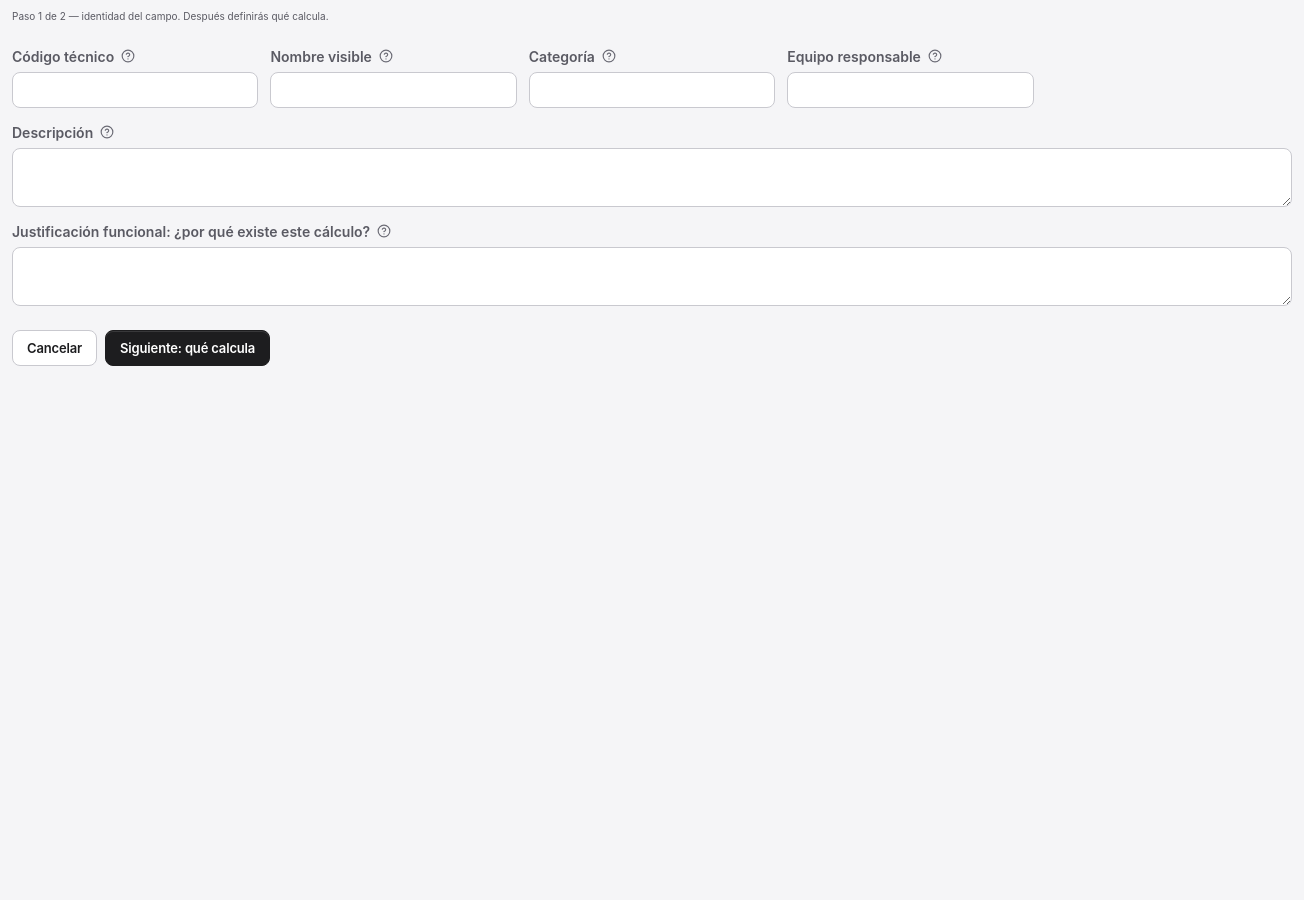
alta de campo calculado › el primer paso pide identidad y el segundo la implementación
Expected: the text "Modalidad de implementación" is not shown
Type "ingreso_disponible" into the field labelled "Código técnico" at coordinates (135, 90), box [12,72,258,108]
Type "Ingreso disponible" into the field labelled "Nombre visible" at coordinates (394, 90), box [270,72,517,108]
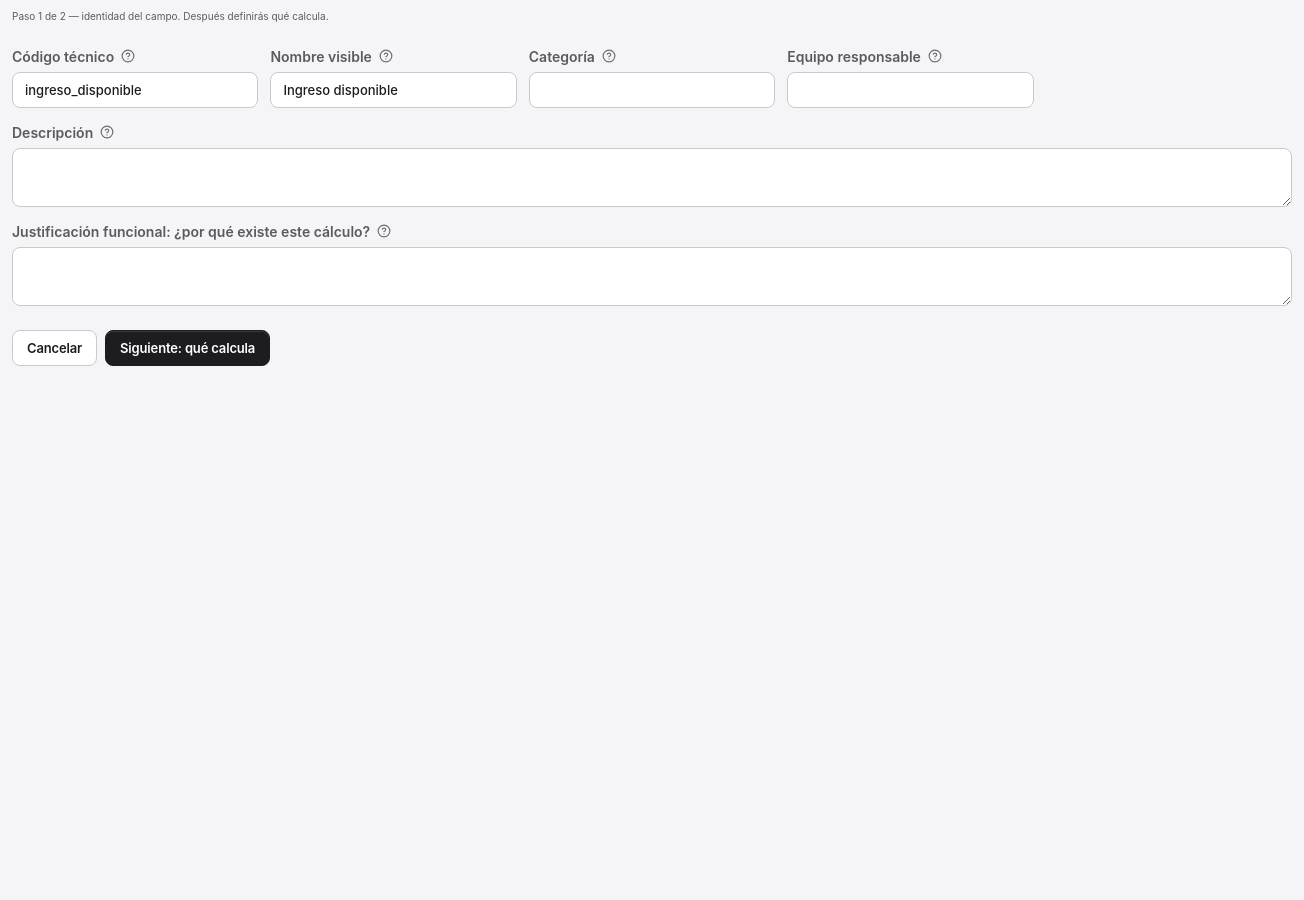
Type "AFORDABILIDAD" into the field labelled "Categoría" at coordinates (652, 90), box [529,72,775,108]
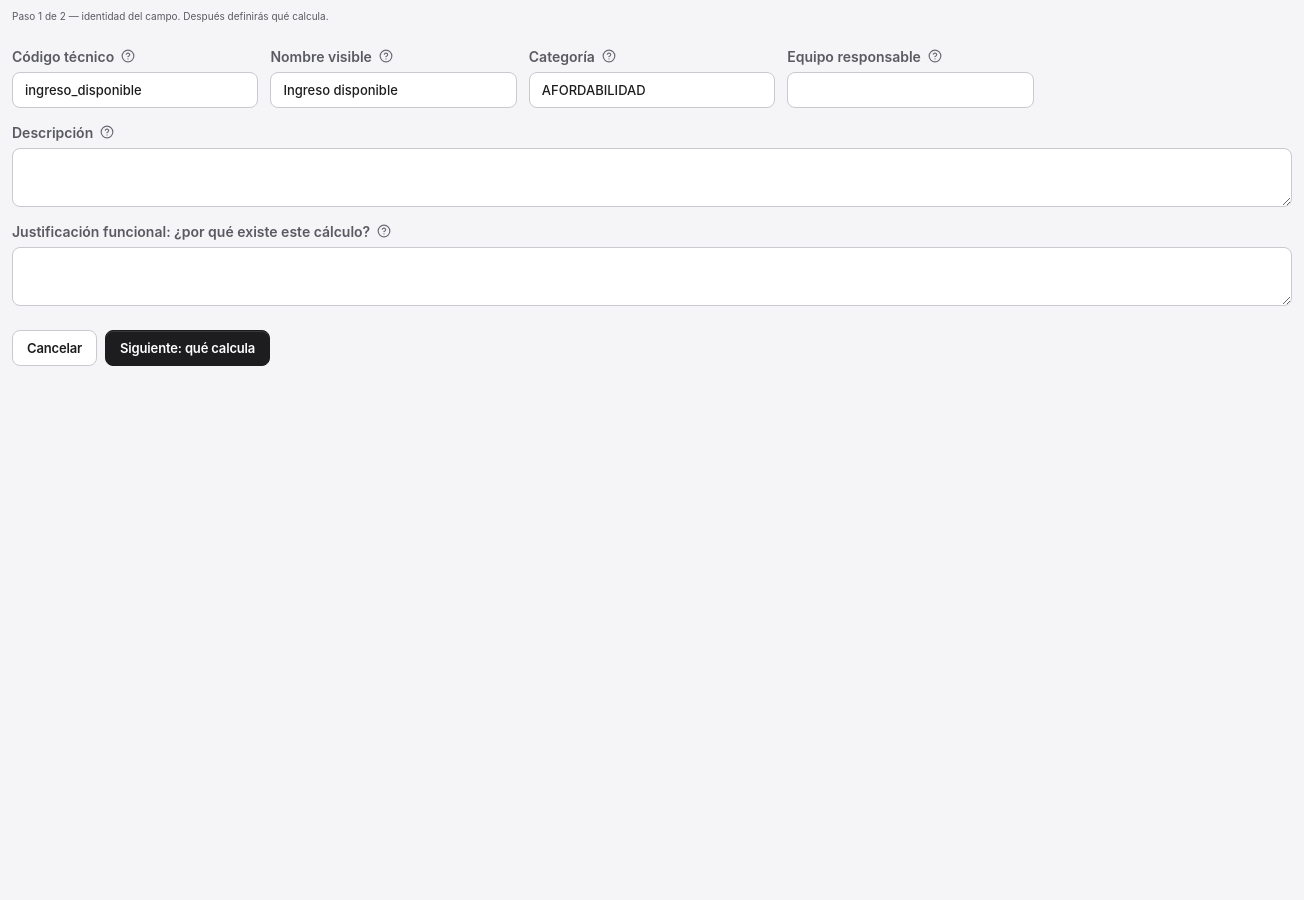
Type "RIESGOS" into the field labelled "Equipo responsable" at coordinates (910, 90), box [787,72,1034,108]
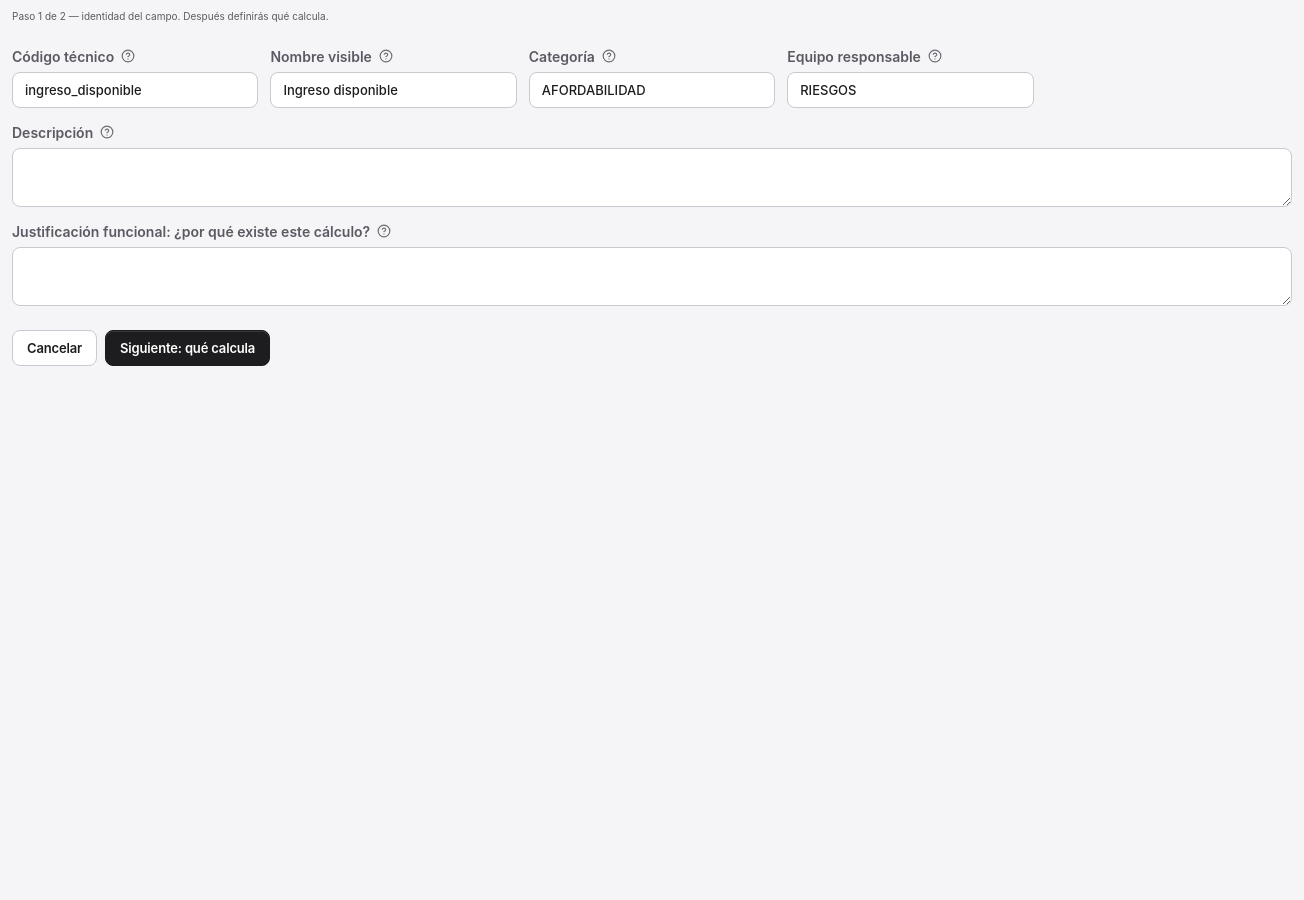
Type "Ingreso menos gastos" into the text box labelled "Descripción" at coordinates (652, 178), box [12,148,1292,207]
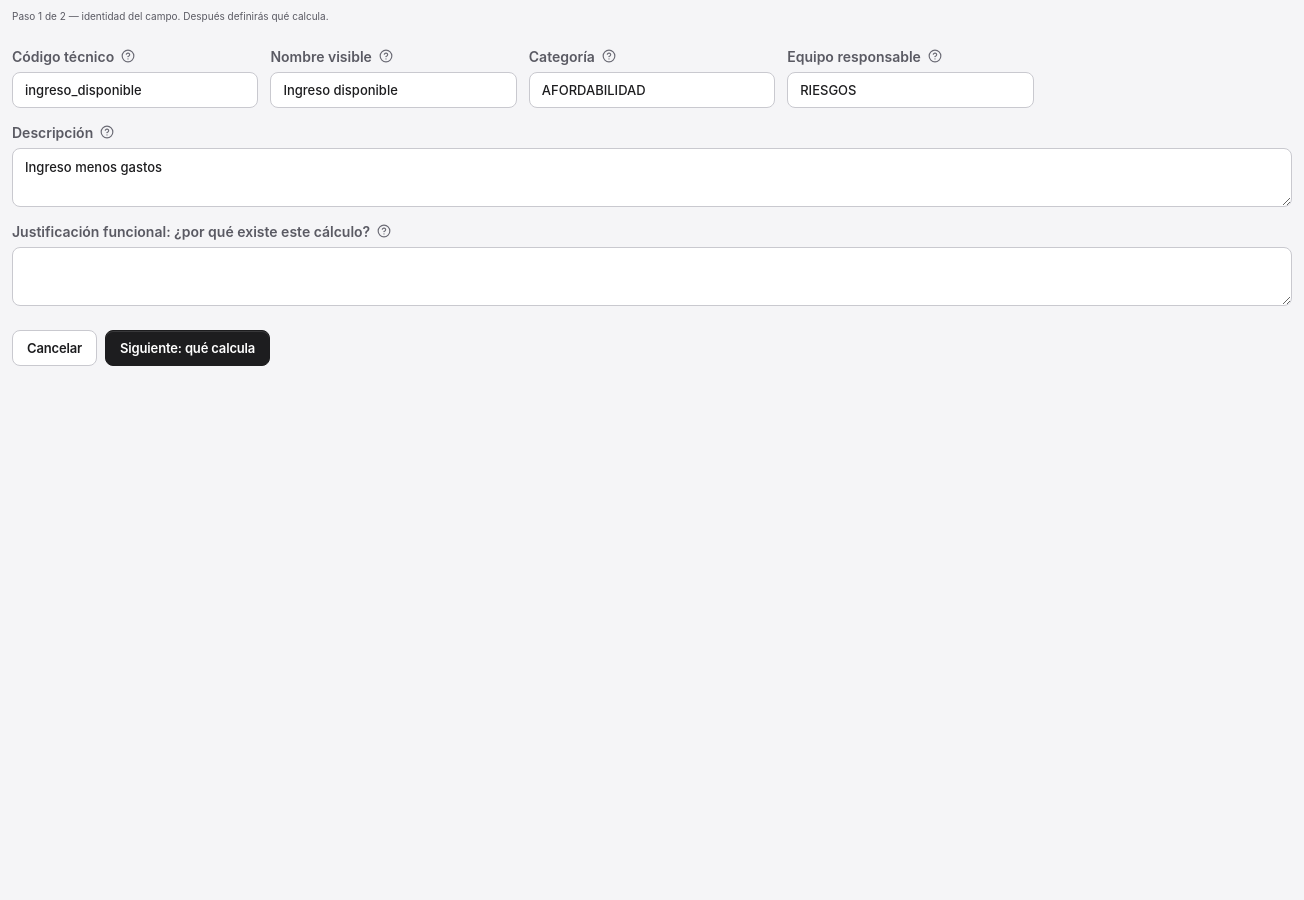
Type "Base de la capacidad de pago" into the text box labelled "Justificación funcional: ¿por qué existe este cálculo?" at coordinates (652, 276), box [12,247,1292,306]
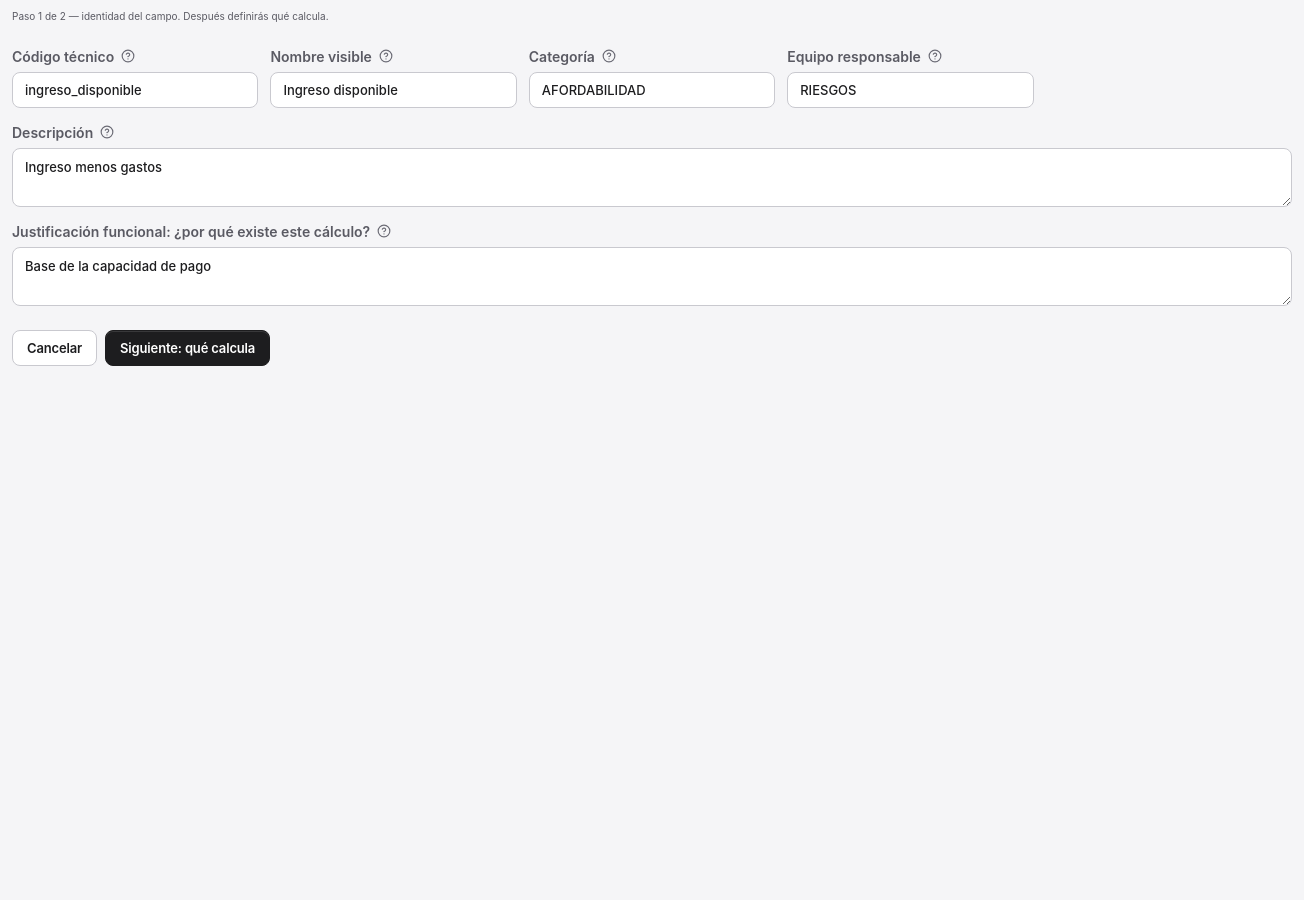
Click the button "Siguiente: qué calcula" at coordinates (188, 348), box [105,330,270,366]
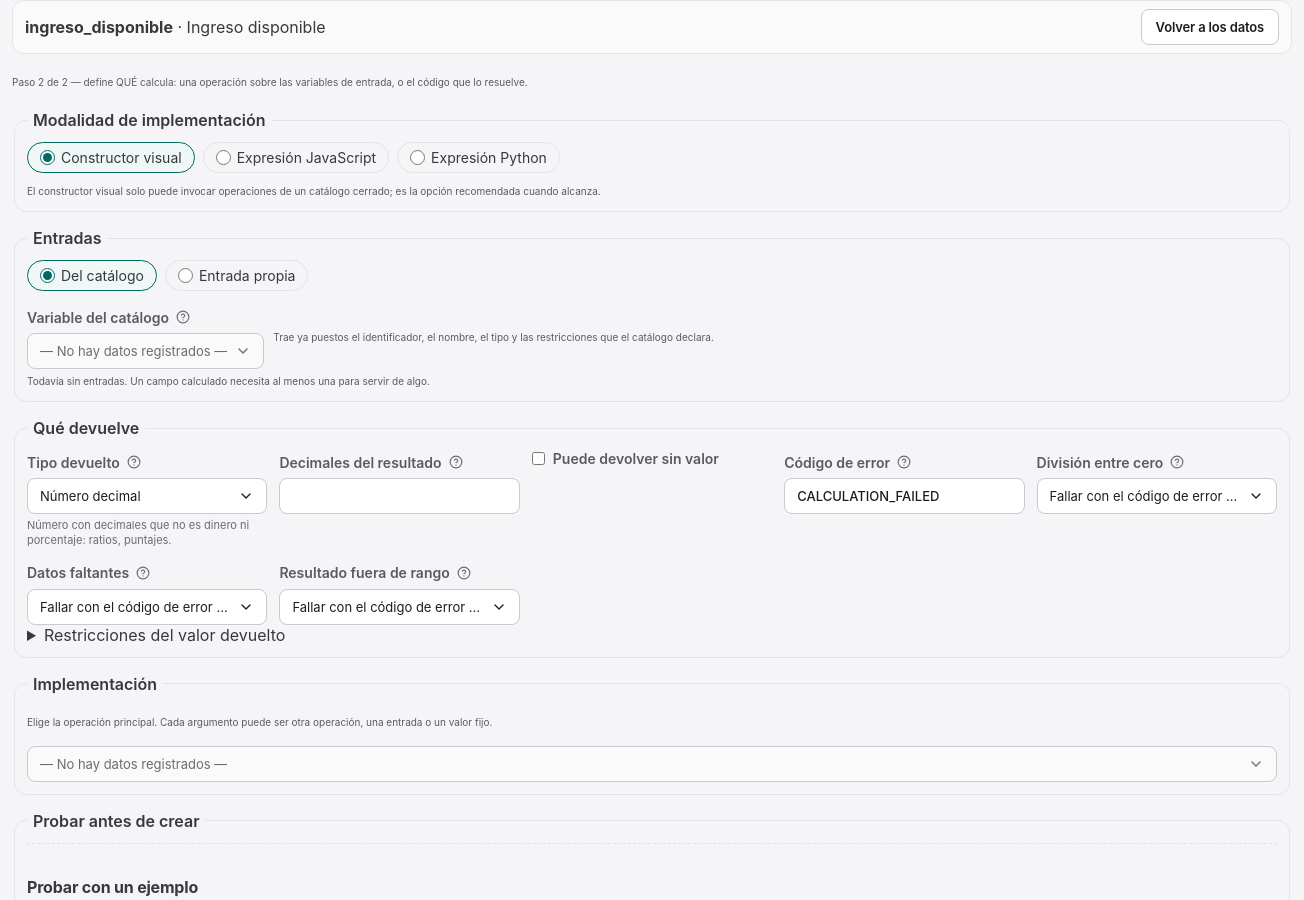
Expected: the text "Modalidad de implementación" is shown, [27,110,272,130]
Expected: the radio button labelled "Constructor visual" is shown, [40,150,55,165]
Expected: the radio button labelled "Expresión JavaScript" is shown, [216,150,231,165]
